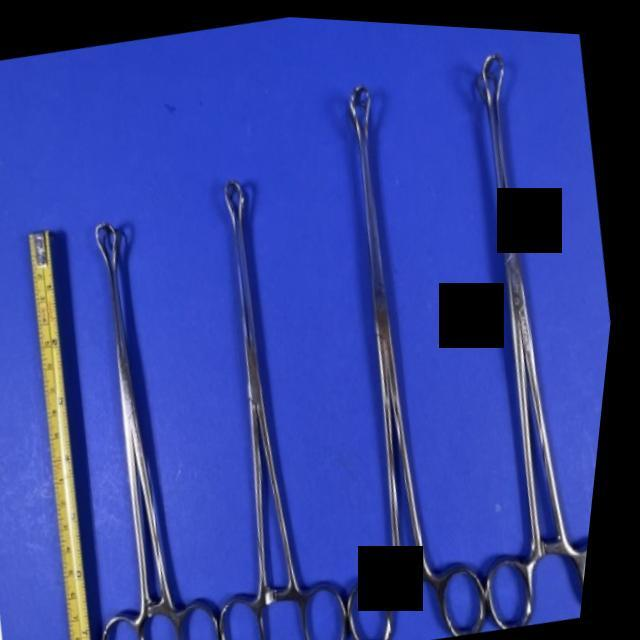Babcock Forceps: (248, 52, 548, 640), (382, 20, 640, 627), (138, 149, 404, 640), (20, 197, 277, 640)
